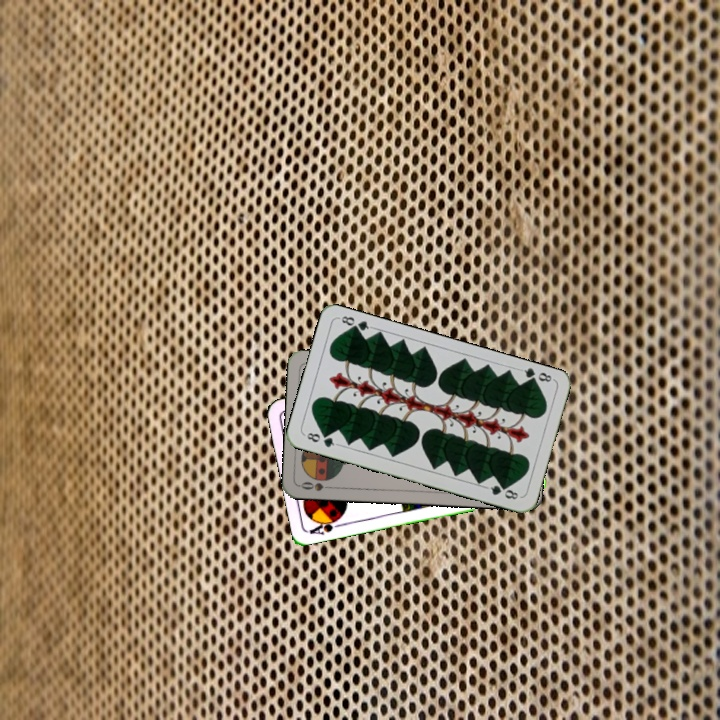G8: (516, 364, 556, 387), (301, 428, 341, 450)
SA: (306, 513, 346, 537)
SO: (297, 478, 337, 494)
